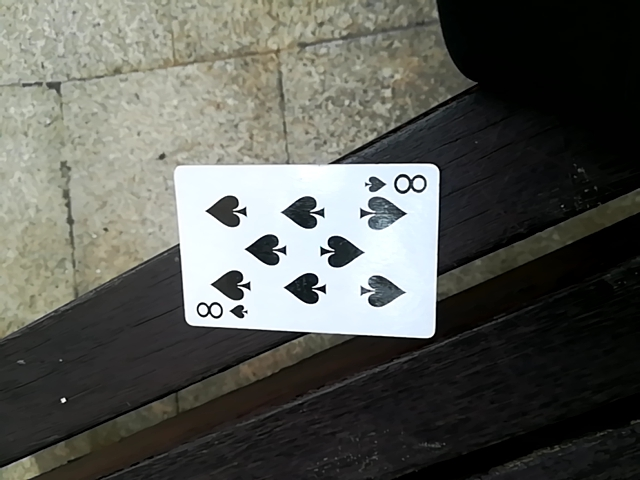ht 8: (163, 168, 443, 349)
